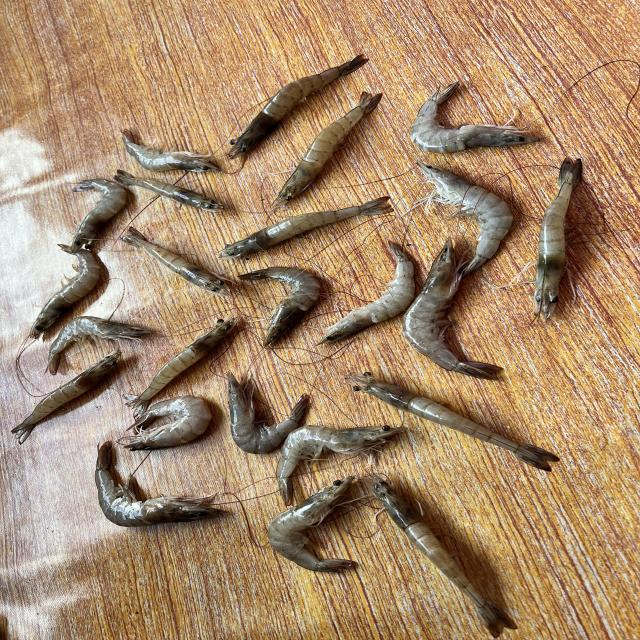shrimp: (363, 475, 514, 638), (346, 373, 559, 472), (228, 53, 368, 158), (403, 239, 502, 380), (272, 91, 382, 207), (125, 317, 237, 417), (94, 442, 222, 528), (219, 196, 393, 259), (417, 161, 513, 275), (276, 426, 407, 505), (10, 351, 120, 445), (318, 242, 415, 344), (411, 81, 539, 152), (268, 477, 355, 573), (534, 157, 583, 321), (120, 227, 229, 296), (227, 373, 309, 455), (28, 244, 99, 338), (237, 267, 320, 347), (43, 316, 150, 375), (117, 396, 211, 452), (113, 169, 222, 211), (71, 178, 126, 254), (120, 129, 219, 171)
